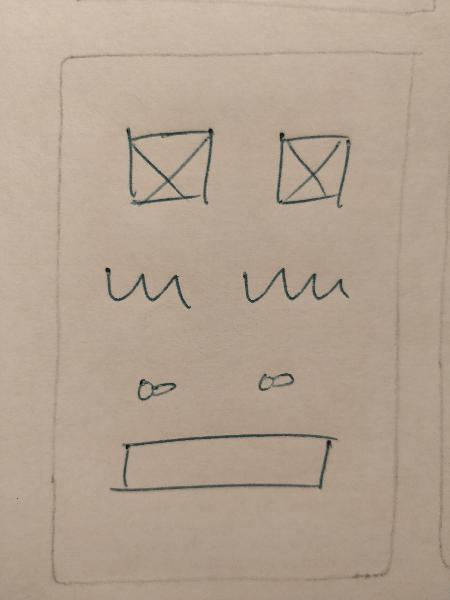image: (114, 114, 223, 213), (260, 123, 365, 222)
switch: (245, 357, 308, 399), (122, 365, 186, 405)
text: (99, 257, 201, 325), (232, 258, 353, 312)
text_input: (93, 429, 351, 500)
